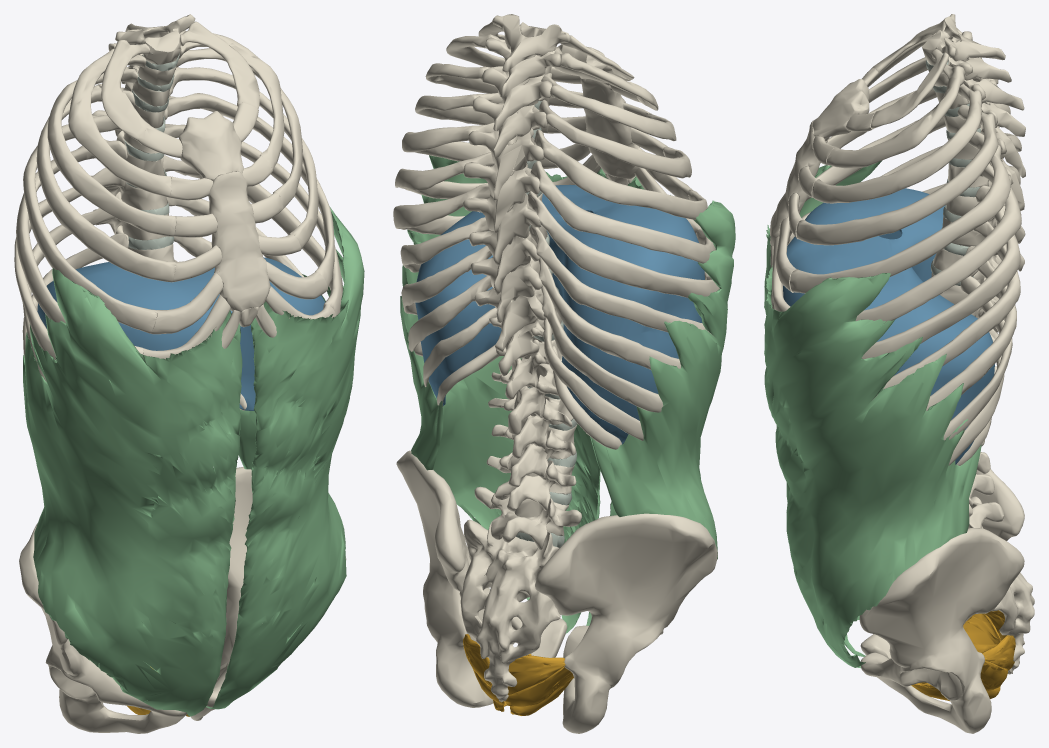
The model's file is iap-torso.glb.
3 views of the same model, side by side, from view 1: azimuth 30°, elevation 25°; view 2: azimuth 150°, elevation 25°; view 3: azimuth 270°, elevation 25° (orthographic). The views are drawn at different scales.
Visible parts, largest first — view 1: oblique, ribs, cartilage, pelvis, sternum, diaphragm, thoracic, discs; view 2: ribs, pelvis, oblique, thoracic, diaphragm, pelvic_floor, cartilage, sternum, L5, L4, L3, L2 (+2 smaller); view 3: oblique, ribs, pelvis, diaphragm, thoracic, sternum, cartilage, pelvic_floor, discs, L5.
Part boxes in pixels (bbox=[...]): oblique: bbox=[23, 206, 364, 716]; ribs: bbox=[14, 21, 342, 410]; cartilage: bbox=[138, 103, 336, 359]; pelvis: bbox=[19, 467, 346, 733]; sternum: bbox=[178, 111, 270, 327]; diaphragm: bbox=[37, 257, 325, 410]; thoracic: bbox=[90, 14, 195, 261]; discs: bbox=[124, 50, 179, 249]; ribs: bbox=[393, 21, 719, 449]; pelvis: bbox=[396, 450, 717, 733]; oblique: bbox=[400, 142, 735, 633]; thoracic: bbox=[463, 14, 570, 399]; diaphragm: bbox=[415, 184, 704, 444]; pelvic_floor: bbox=[463, 634, 573, 715]; cartilage: bbox=[540, 66, 708, 279]; sternum: bbox=[554, 44, 639, 185]; L5: bbox=[474, 486, 581, 550]; L4: bbox=[486, 452, 576, 511]; L3: bbox=[491, 424, 577, 487]; L2: bbox=[488, 394, 573, 458]; oblique: bbox=[764, 160, 981, 668]; ribs: bbox=[789, 19, 1021, 465]; pelvis: bbox=[859, 469, 1034, 733]; diaphragm: bbox=[783, 188, 994, 464]; thoracic: bbox=[922, 14, 1025, 373]; sternum: bbox=[770, 79, 869, 247]; cartilage: bbox=[770, 68, 879, 311]; pelvic_floor: bbox=[911, 610, 1015, 701]; discs: bbox=[925, 53, 980, 285]; L5: bbox=[968, 500, 1004, 528].
Size of the model in its own units: 1.16 by 2.5 by 0.9041.
